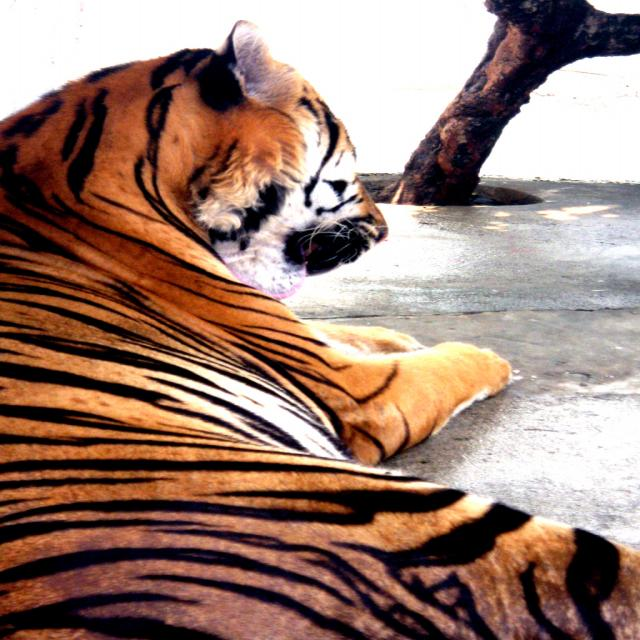Tiger: (0, 16, 639, 639)
